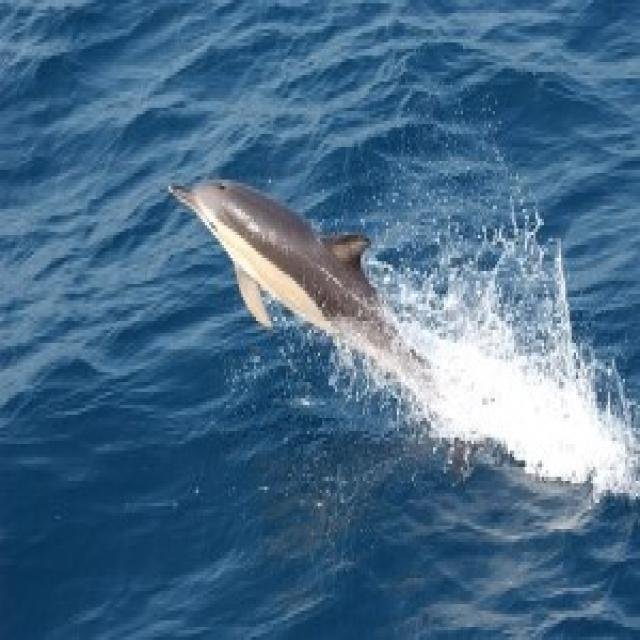Dolphin: (156, 160, 464, 409)
